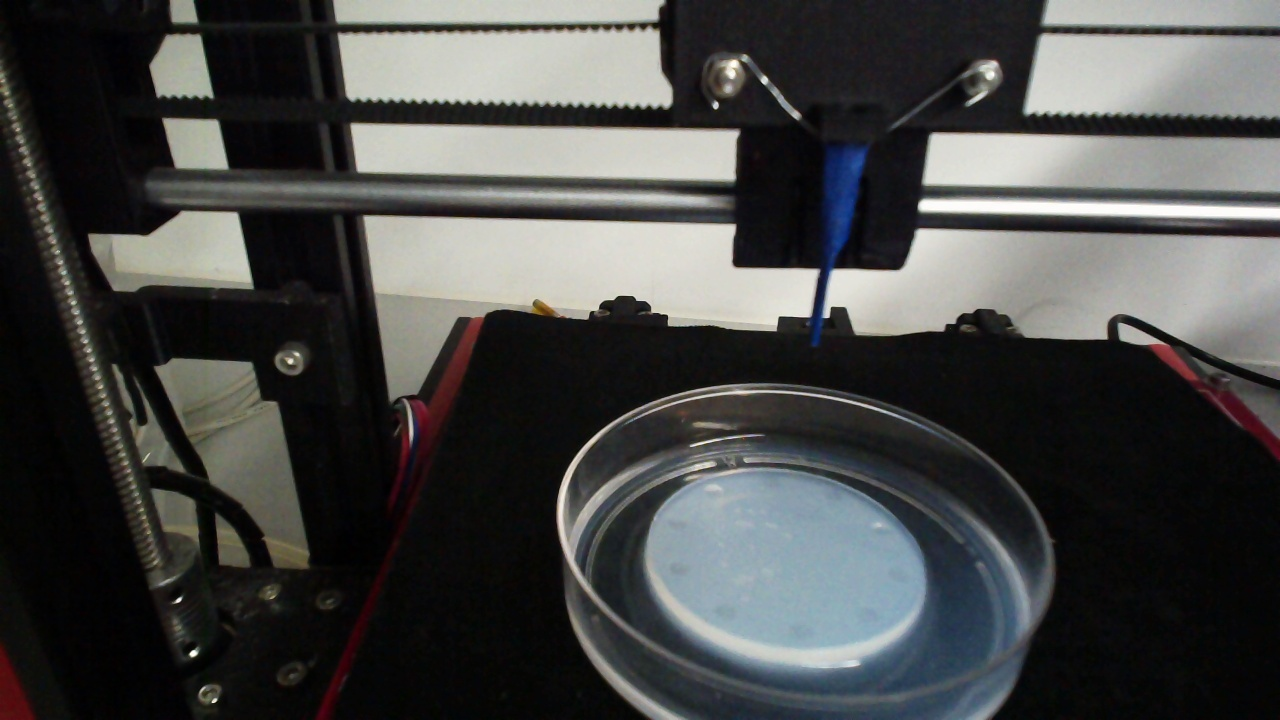groove: (852, 603, 880, 625), (712, 600, 739, 622), (885, 564, 914, 584), (867, 519, 893, 539), (786, 622, 814, 638), (665, 515, 690, 532), (666, 560, 691, 577), (702, 482, 725, 497), (758, 478, 783, 490), (821, 490, 844, 503)
needle: (810, 148, 868, 348)
